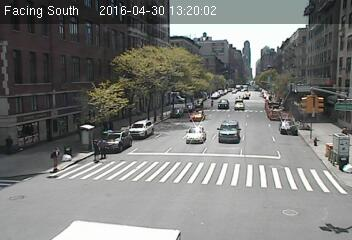neg: (323, 143, 339, 164), (338, 135, 351, 153), (285, 79, 297, 95), (270, 105, 281, 120), (263, 70, 274, 85), (266, 51, 274, 62)
pos: (43, 145, 64, 174), (86, 138, 102, 159), (96, 139, 111, 159)
